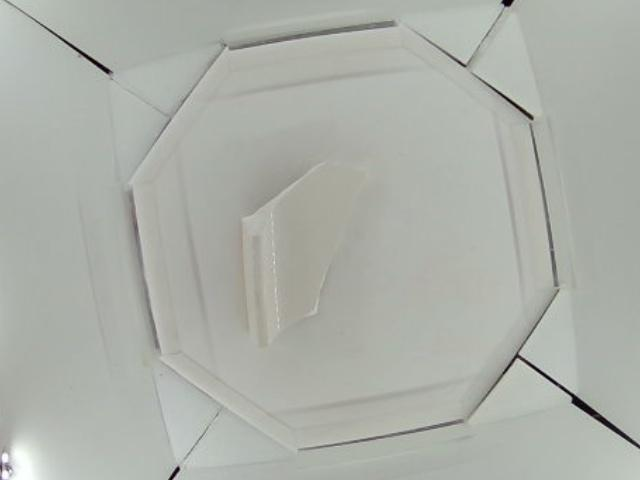China: (240, 160, 364, 348)
